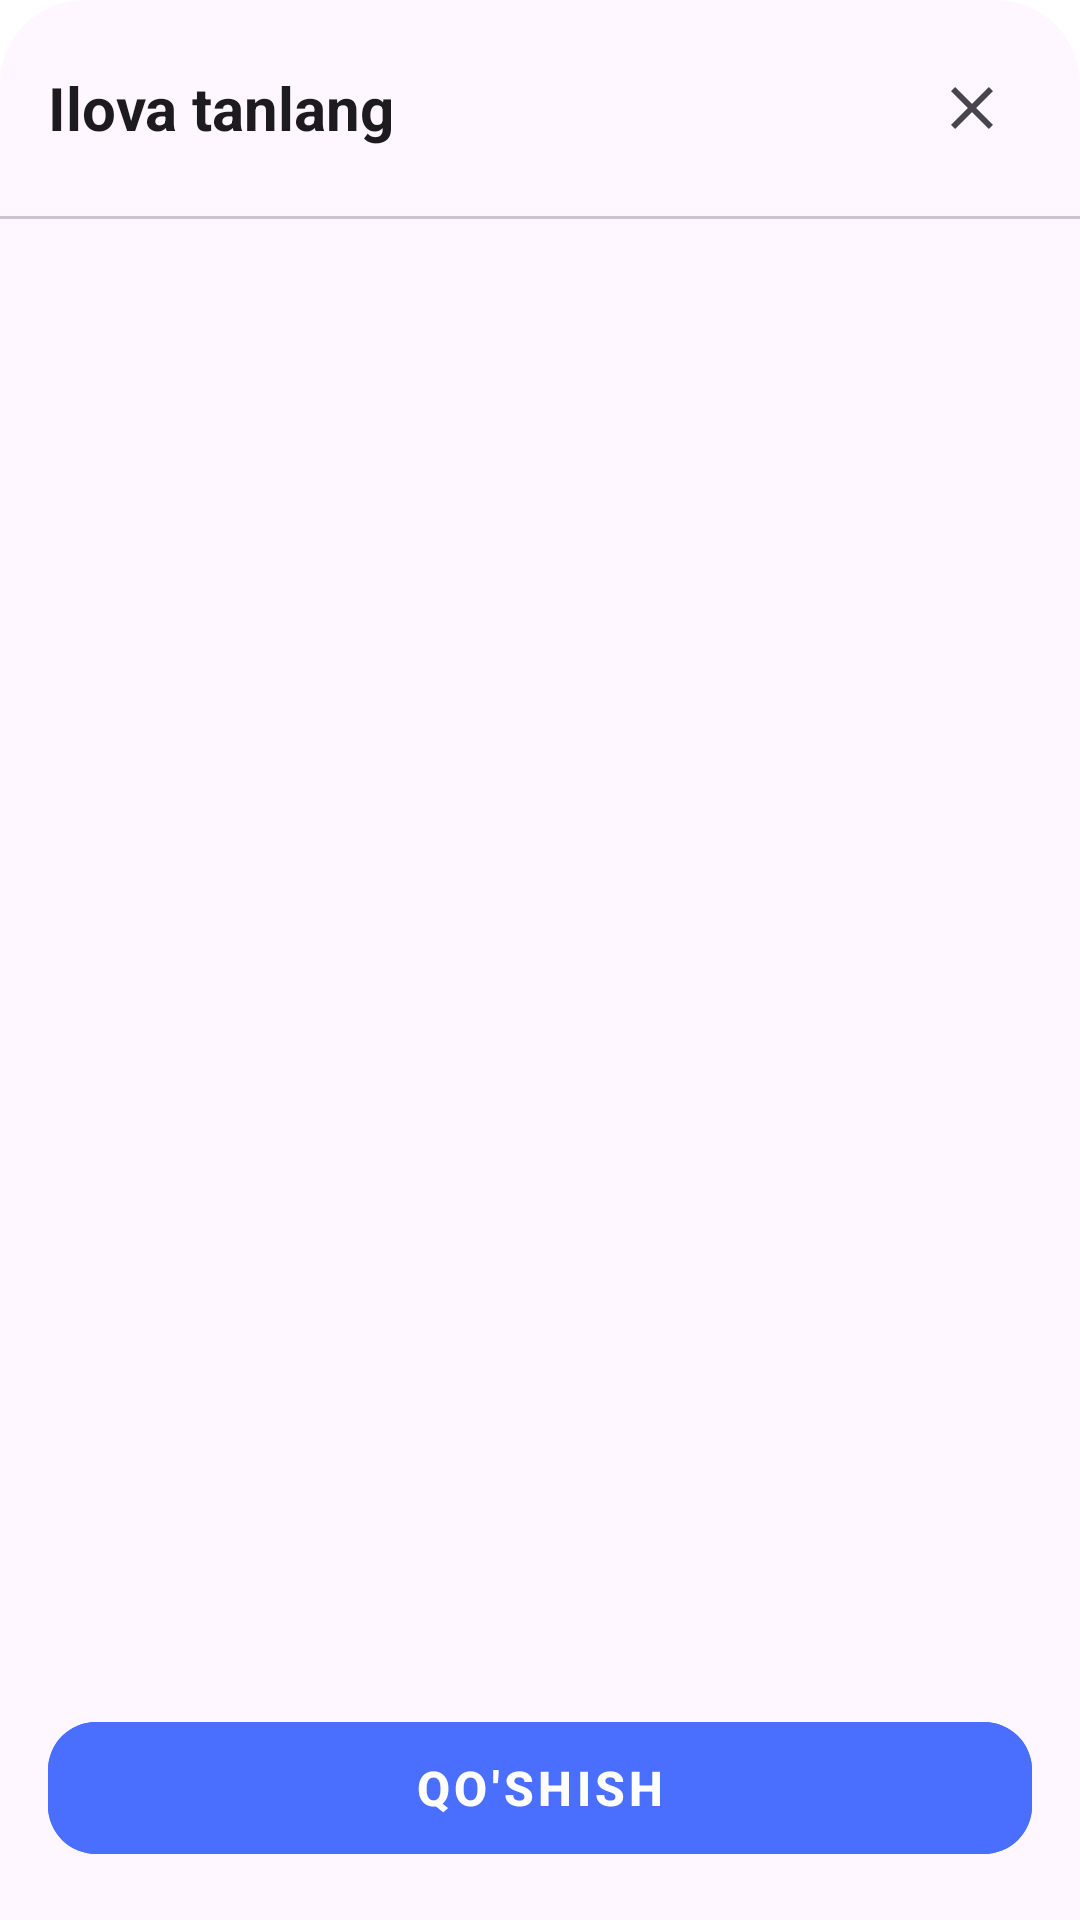

Screen size 1080×1920. Icon name, then its center in pixels as (x=x, y=y):
close: (x=972, y=108)
